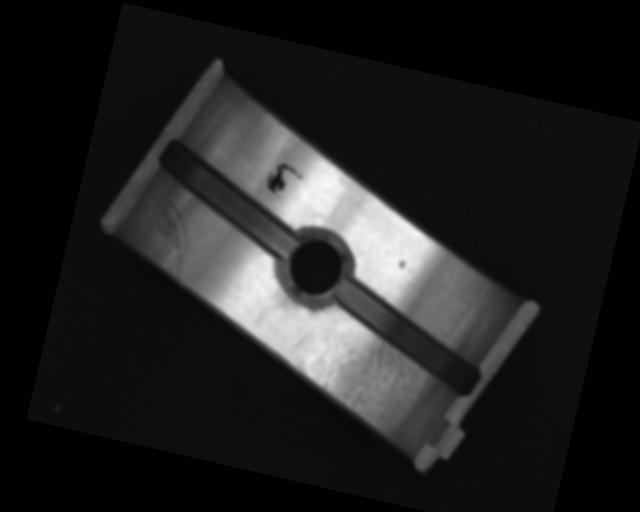blot: (264, 159, 307, 200)
bruise: (397, 258, 407, 270)
gap: (141, 135, 313, 259), (322, 276, 495, 399)
hole: (275, 224, 357, 307)
nick: (141, 195, 200, 283)
scratch: (289, 325, 435, 440)
